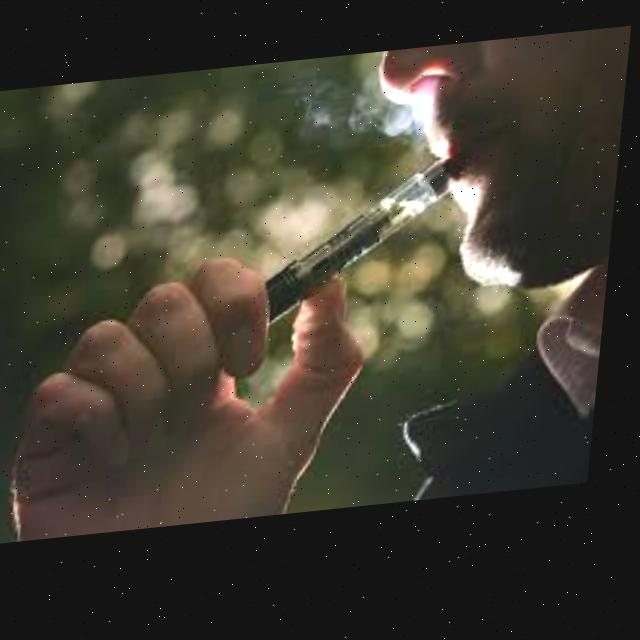vape: (268, 159, 480, 330)
